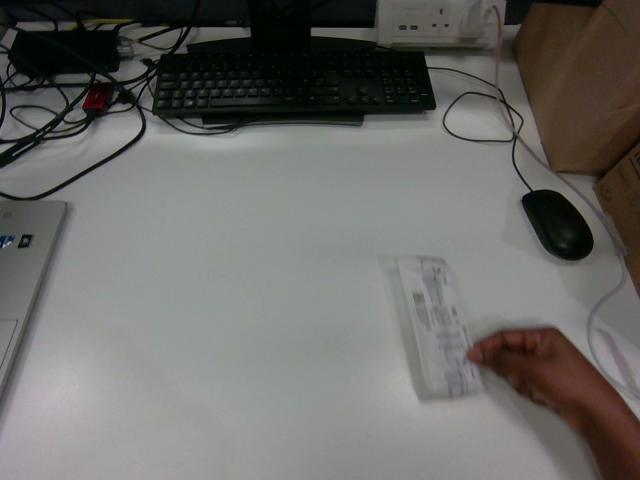syringe: (392, 256, 482, 397)
